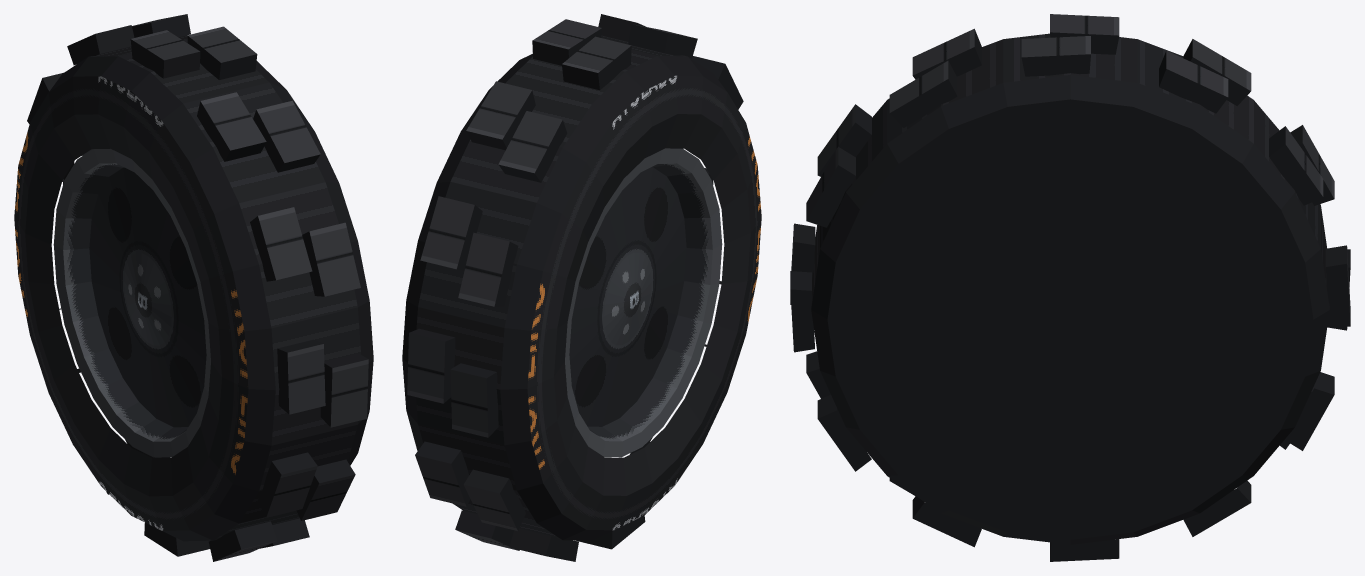
The model's file is bigorna_reforcada_14_com_tropeiro_atolado_direita.glb.
3 renders of one model, left to right at view 1: azimuth 30°, elevation 25°; view 2: azimuth 150°, elevation 25°; view 3: azimuth 270°, elevation 25°, orthographic. The views are drawn at different scales.
Parts seen in each view (by area): view 1: bigorna_reforcada_14_com_tropeiro_atolado_direita; view 2: bigorna_reforcada_14_com_tropeiro_atolado_direita; view 3: bigorna_reforcada_14_com_tropeiro_atolado_direita.
Part boxes in pixels (x1=…): bigorna_reforcada_14_com_tropeiro_atolado_direita: x1=14, y1=14, x2=373, y2=561; bigorna_reforcada_14_com_tropeiro_atolado_direita: x1=402, y1=14, x2=761, y2=561; bigorna_reforcada_14_com_tropeiro_atolado_direita: x1=790, y1=14, x2=1350, y2=561.
Size of the model in its own units: 0.1918 by 0.6747 by 0.6747.
Materials: 2 (2 with a texture image).
